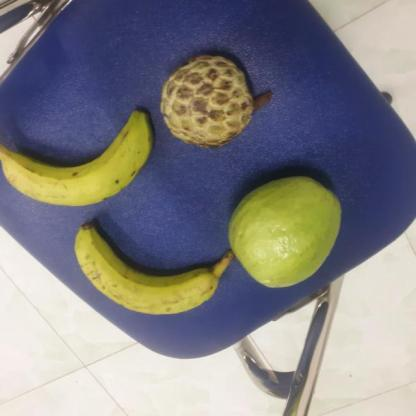annona: (162, 52, 272, 148)
banana: (0, 108, 156, 209), (77, 220, 237, 314)
guava: (227, 176, 346, 284)
